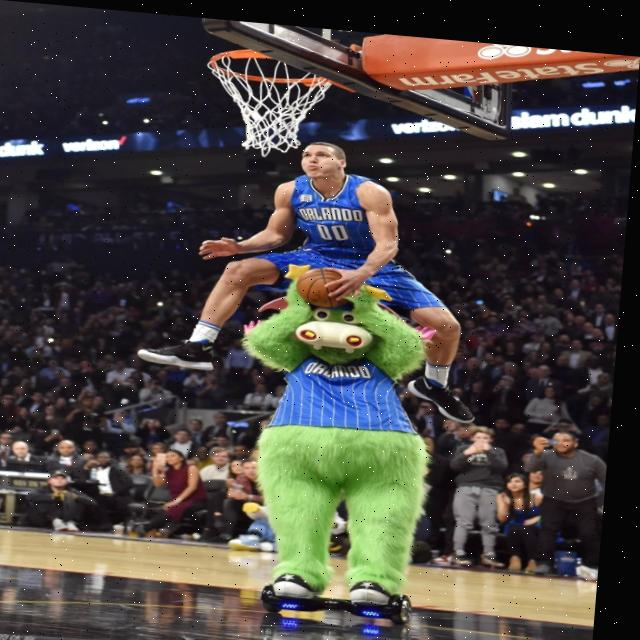basketball: (296, 264, 360, 312)
hoop: (196, 46, 335, 159)
